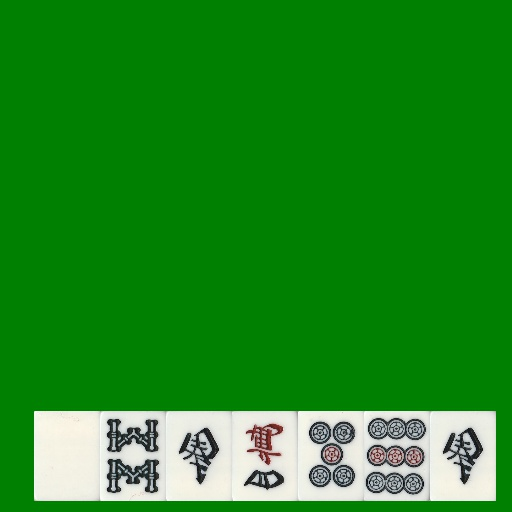4m: (232, 411, 298, 501)
5p: (298, 411, 364, 501)
8s: (100, 411, 166, 501)
9p: (364, 411, 430, 501)
south: (166, 411, 232, 501), (430, 411, 496, 501)
white: (34, 411, 100, 501)
